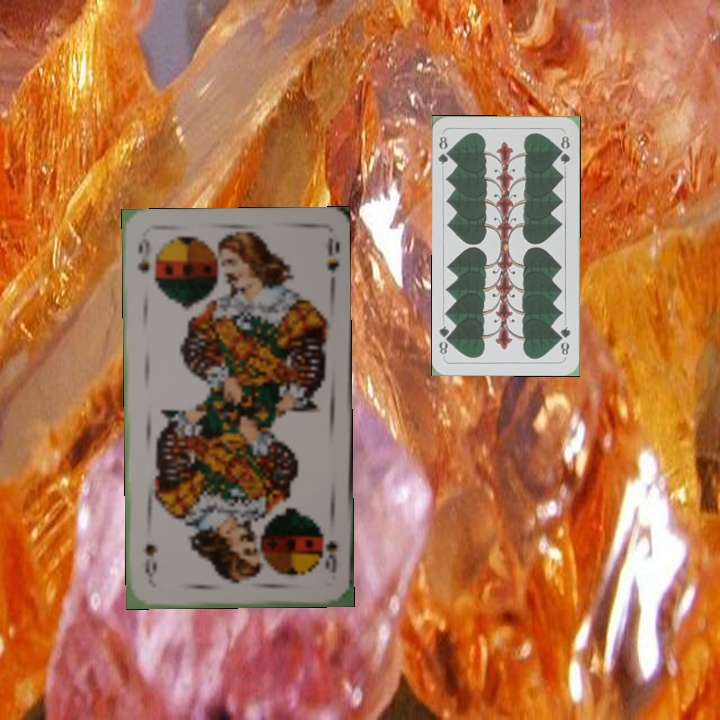G8: (435, 132, 455, 167), (555, 322, 573, 358)
SO: (318, 530, 340, 575), (133, 234, 153, 277)
